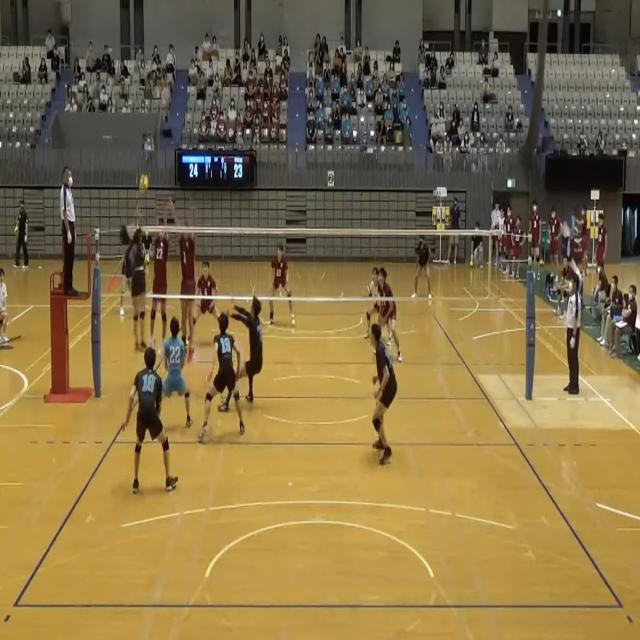spike: (116, 174, 154, 356)
